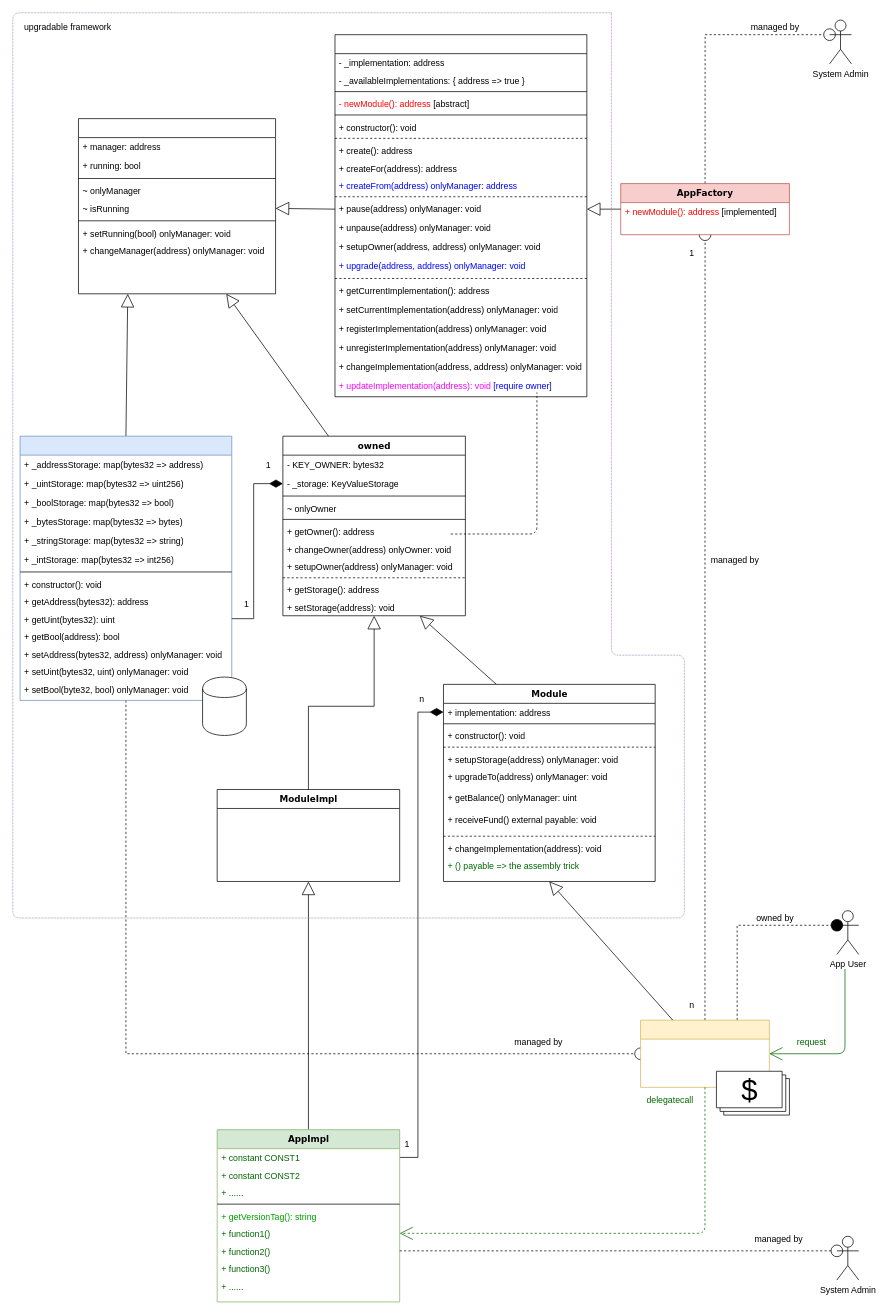
The diagram is 888 pixels wide and 1315 high, and some of its shapes have lost their labels. Here are the shapes that lost their labels. From the top down, the box of each, then its label:
(78, 118, 276, 294): managed
(334, 34, 587, 397): ModuleFactory
(19, 435, 232, 700): KeyValueStorage
(640, 1019, 769, 1087): App
